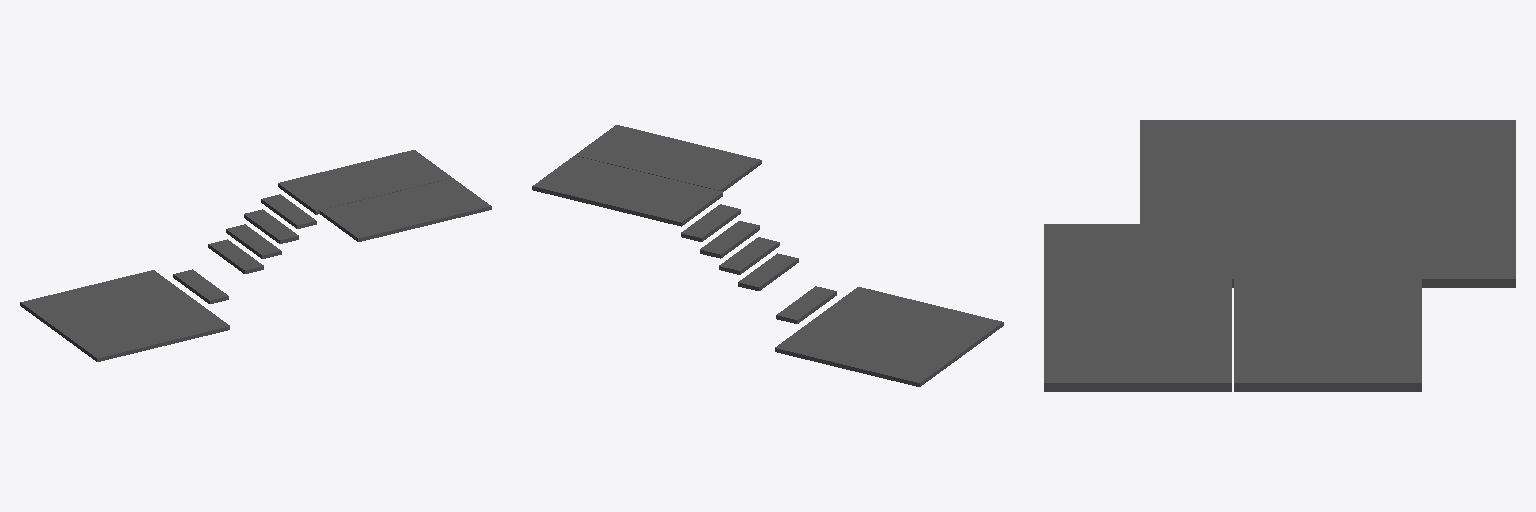
The robot description file, URDF, robot "lab_scene":
<?xml version="1.0" ?>
<robot name="lab_scene" xmlns:xacro="http://ros.org/wiki/xacro">
  <link name="base_link">
    <inertial>
      <mass value="200" />
      <inertia ixx="1.0" ixy="0.0" ixz="0.0" iyy="1.0" iyz="0.0" izz="1.0" />
    </inertial>
    <visual>
      <origin rpy="0 0 0" xyz="0 0 0"/>
      <geometry>
        <mesh filename="package://meshes/lab_scene_remove2.stl"/>
      </geometry>
      <material name="">
        <color rgba="0.4 0.4 0.4 1.0"/>
      </material>
    </visual>
    <collision concave="yes">
      <origin rpy="0 0 0" xyz="0 0 0"/>
      <geometry>
        <mesh filename="package://meshes/lab_scene_remove2.stl"/>
      </geometry>
    </collision>
  </link>
  <gazebo>
    <static>1</static>
  </gazebo>
</robot>

--- What the picture shows (computed from the rendered views, not written in the file) ---
The picture shows the robot from 3 angles, left to right: view 1: azimuth 30°, elevation 25°; view 2: azimuth 150°, elevation 25°; view 3: azimuth 270°, elevation 25°; orthographic projection.
Model lab_scene with 1 links and 0 joints (none), rooted at base_link, posed all joints at 0.
Links seen in each view (by area): view 1: base_link; view 2: base_link; view 3: base_link.
Link boxes in pixels (x1,y1,x2,y2): base_link: (20,150,491,361); base_link: (532,125,1003,386); base_link: (1044,120,1515,391).
Bounding box of the posed robot: 6.19 × 2.76 × 1.25 m (x, y, z).
1 mesh visuals loaded from 1 distinct referenced files (1 binary STL).